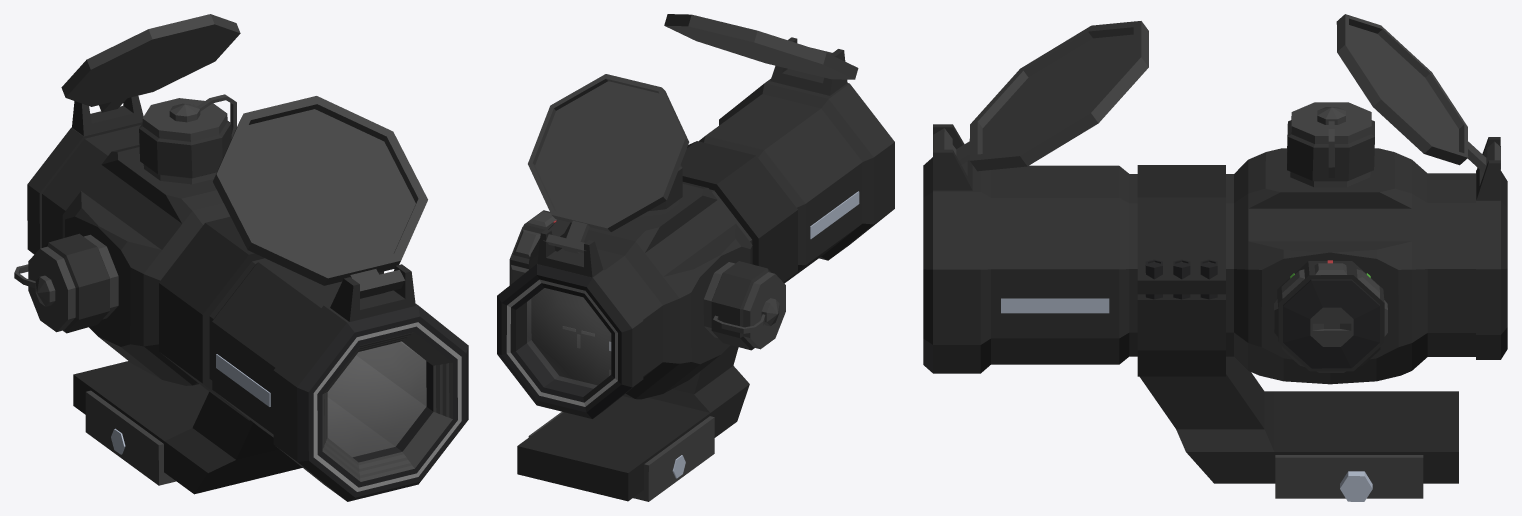
Rendered from red_dot_e.fbx.
The picture shows the model from 3 angles, left to right: view 1: azimuth 30°, elevation 25°; view 2: azimuth 150°, elevation 25°; view 3: azimuth 270°, elevation 25°; orthographic projection. The views are drawn at different scales.
Visible parts, largest first — view 1: red_dot_e, glass.007; view 2: red_dot_e, glass.007, cam.003; view 3: red_dot_e.
Boxes of the visible parts, x1,y1,x2,y2 form: red_dot_e: [14, 14, 468, 501]; glass.007: [328, 341, 426, 456]; red_dot_e: [497, 14, 894, 501]; glass.007: [527, 288, 610, 388]; cam.003: [531, 288, 611, 385]; red_dot_e: [923, 14, 1507, 501].
Size of the model in its own units: 5.37 by 7.95 by 9.77.
